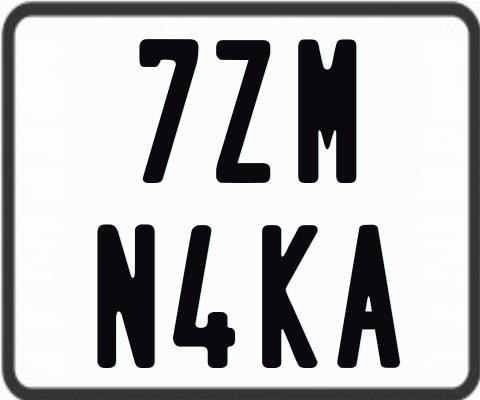4: (171, 225, 238, 374)
7: (136, 38, 197, 188)
A: (337, 222, 400, 369)
K: (259, 225, 317, 369)
M: (297, 36, 356, 181)
N: (97, 224, 157, 371)
Z: (215, 40, 271, 185)
